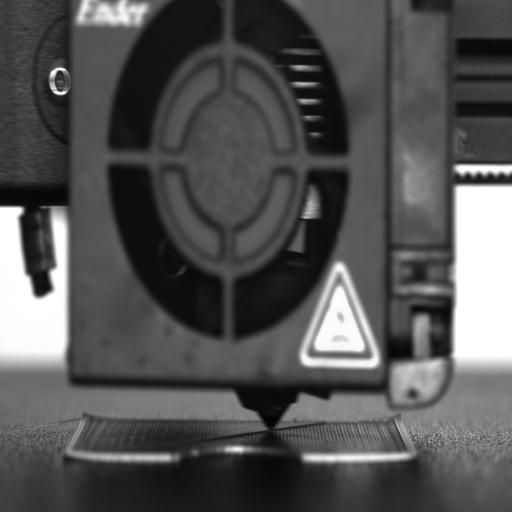warp: (62, 448, 86, 467)
